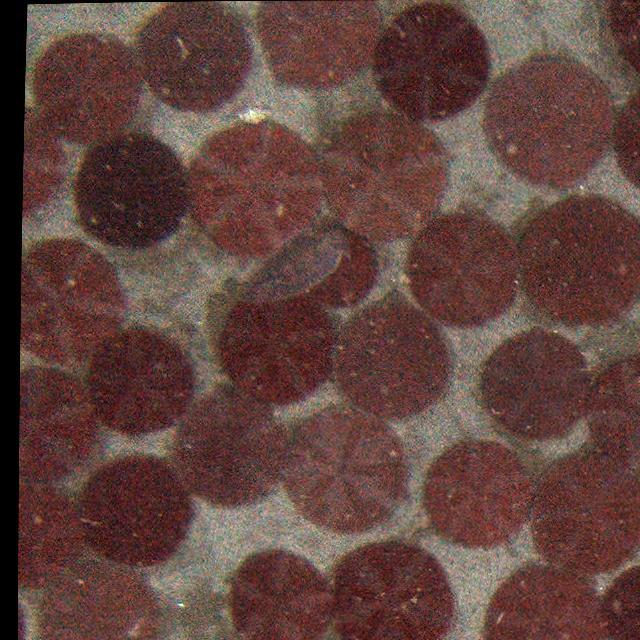flatfish: (234, 210, 353, 309)
